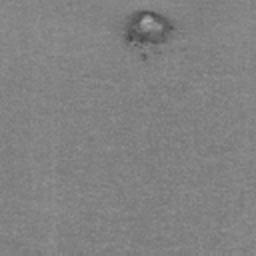Iron sheet ash: (125, 9, 175, 51)
